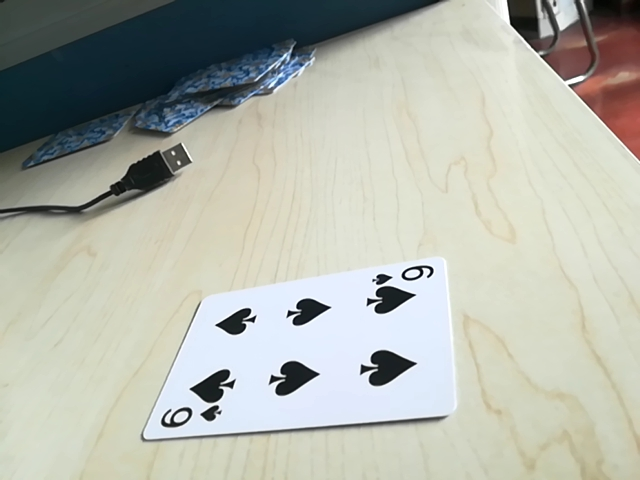ht 6: (148, 402, 227, 434), (372, 263, 439, 291)
